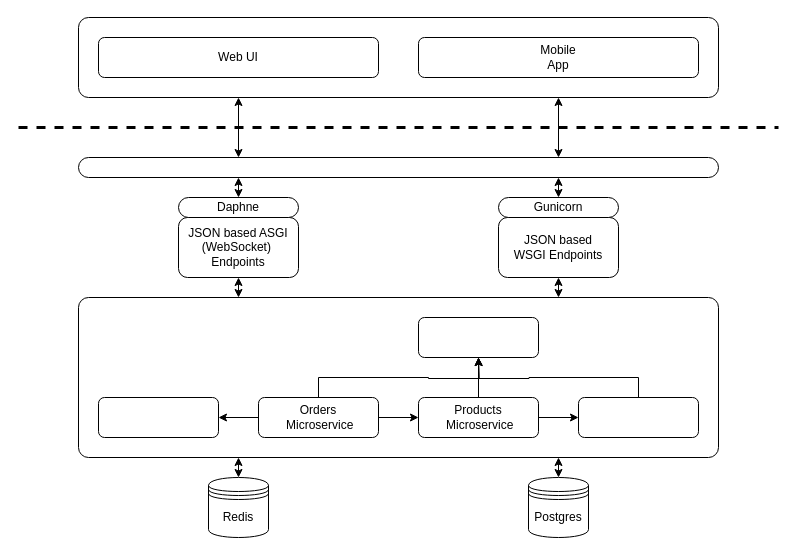
This 798x555 diagram has some shape labels left out. The shapes that lost their labels are listed below. From the top down, each one's centre as x and y in pixels, then its label:
point 398,167: NGINX REST API
point 478,337: Verification Microservice
point 158,417: Codes Microservice
point 638,417: Locations Microservice
